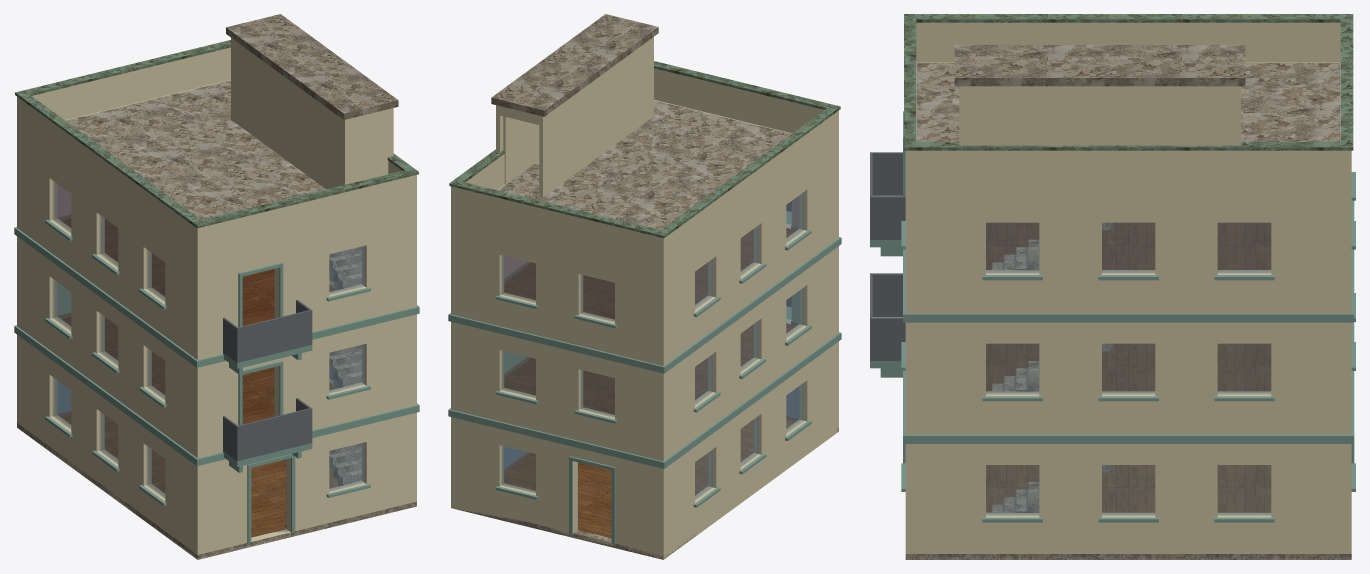
Rendered from bay-townhouse-yellow.coast-v1.lod0.glb.
3 renders of one model, left to right at view 1: azimuth 30°, elevation 25°; view 2: azimuth 150°, elevation 25°; view 3: azimuth 270°, elevation 25°, orthographic. The views are drawn at different scales.
Parts seen in each view (by area): view 1: bay-townhouse-yellow; view 2: bay-townhouse-yellow; view 3: bay-townhouse-yellow.
Boxes of the visible parts, <box> form: bay-townhouse-yellow: <box>14,14,419,559</box>; bay-townhouse-yellow: <box>448,14,841,559</box>; bay-townhouse-yellow: <box>870,14,1355,559</box>.
Size of the model in its own units: 7.2 by 11.95 by 10.9.
Materials: 4 (2 with a texture image).
